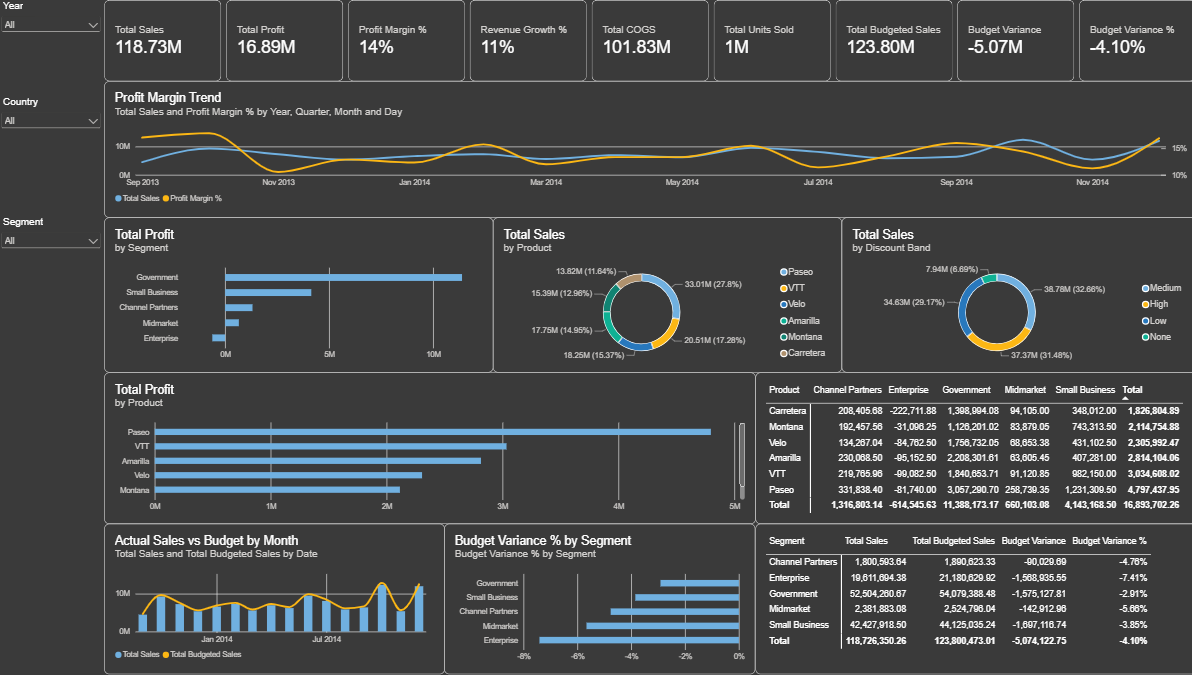

Layout of this report page (visuals, bound fields, positions):
{"tool":"powerbi","page":{"name":"Page 1","canvas":[1920,1080],"ordinal":0},"visuals":[{"type":"cardVisual","fields":{"Data":["Fact_Sales.Total Sales","Fact_Sales.Total Profit","Fact_Sales.Profit Margin %","Fact_Sales.Revenue Growth %","Fact_Sales.Total COGS","Fact_Sales.Total Units Sold","Budget.Total Budgeted Sales","Budget.Budget Variance","Budget.Budget Variance %"]},"box":[170,0,1750,130],"z":0},{"type":"lineChart","title":"Profit Margin Trend","fields":{"Category":["Dim_Date.Date.Variation.Date Hierarchy.Year","Dim_Date.Date.Variation.Date Hierarchy.Quarter","Dim_Date.Date.Variation.Date Hierarchy.Month","Dim_Date.Date.Variation.Date Hierarchy.Day"],"Y":["Fact_Sales.Total Sales"],"Y2":["Fact_Sales.Profit Margin %"]},"box":[170,130,1750,218],"z":1},{"type":"clusteredBarChart","fields":{"Category":["Dim_Segment.Segment"],"Y":["Fact_Sales.Total Profit"]},"box":[170,348,622,248],"z":2},{"type":"donutChart","fields":{"Category":["Dim_Product.Product"],"Y":["Fact_Sales.Total Sales"]},"box":[792,348,558,248],"z":3},{"type":"barChart","fields":{"Category":["Dim_Product.Product"],"Y":["Fact_Sales.Total Profit"]},"box":[170.1,595.4,1042.4,242.5],"z":4},{"type":"donutChart","fields":{"Category":["Dim_DiscountBand.Discount Band"],"Y":["Fact_Sales.Total Sales"]},"box":[1350,348,570,248],"z":5},{"type":"pivotTable","fields":{"Columns":["Dim_Segment.Segment"],"Rows":["Dim_Product.Product"],"Values":["Fact_Sales.Total Profit"]},"box":[1212.5,595.4,707.6,242.5],"z":6},{"type":"slicer","fields":{"Values":["Dim_Date.Year"]},"box":[0,0,170,116],"z":7},{"type":"slicer","fields":{"Values":["Dim_Country.Country"]},"box":[0,154,170,116],"z":8},{"type":"slicer","fields":{"Values":["Dim_Segment.Segment"]},"box":[0,346,170,250],"z":9},{"type":"lineStackedColumnComboChart","title":"Actual Sales vs Budget by Month","fields":{"Category":["Dim_Date.Date"],"Y":["Fact_Sales.Total Sales"],"Y2":["Budget.Total Budgeted Sales"]},"box":[170.1,837.9,544.7,240.7],"z":10},{"type":"clusteredBarChart","title":"Budget Variance % by Segment","fields":{"Category":["Dim_Segment.Segment"],"Y":["Budget.Budget Variance %"]},"box":[714.8,837.9,497.7,240.7],"z":11},{"type":"pivotTable","fields":{"Rows":["Dim_Segment.Segment"],"Values":["Fact_Sales.Total Sales","Budget.Total Budgeted Sales","Budget.Budget Variance","Budget.Budget Variance %"]},"box":[1212,838,708,241],"z":12}]}

Visuals, with their boxes in screenshot pixels (x1, y1, x2, y2), scaled from the page's 1920x1080 canvas onto the 1192x675 screenshot:
cardVisual - Fact_Sales.Total Sales x Fact_Sales.Total Profit: rect(106, 0, 1191, 81)
"Profit Margin Trend" lineChart: rect(106, 81, 1191, 218)
clusteredBarChart - Dim_Segment.Segment x Fact_Sales.Total Profit: rect(106, 218, 492, 372)
donutChart - Dim_Product.Product x Fact_Sales.Total Sales: rect(492, 218, 838, 372)
barChart - Dim_Product.Product x Fact_Sales.Total Profit: rect(106, 372, 753, 524)
donutChart - Dim_DiscountBand.Discount Band x Fact_Sales.Total Sales: rect(838, 218, 1191, 372)
pivotTable - Dim_Segment.Segment x Dim_Product.Product: rect(753, 372, 1191, 524)
slicer - Dim_Date.Year: rect(0, 0, 106, 72)
slicer - Dim_Country.Country: rect(0, 96, 106, 169)
slicer - Dim_Segment.Segment: rect(0, 216, 106, 372)
"Actual Sales vs Budget by Month" lineStackedColumnComboChart: rect(106, 524, 444, 674)
"Budget Variance % by Segment" clusteredBarChart: rect(444, 524, 753, 674)
pivotTable - Dim_Segment.Segment x Fact_Sales.Total Sales: rect(752, 524, 1191, 674)
